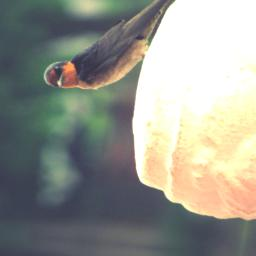Swallow: (38, 0, 189, 99)
